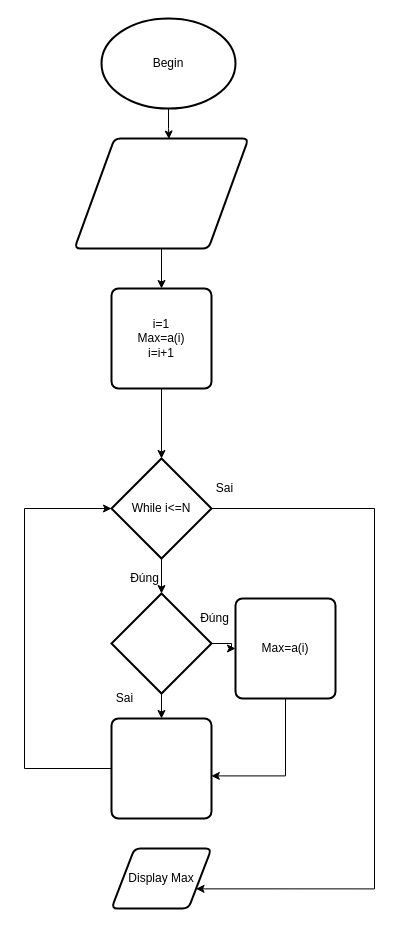
Some shapes in this 400 by 926 pixel diagram are drawn without their labels. The centre of each missing label's shape, as x and y in pixels:
i-i+1: the point at 161,768
If a(i)>Max: the point at 161,643
Nhập n Nhập a(1)...a(n): the point at 161,193
